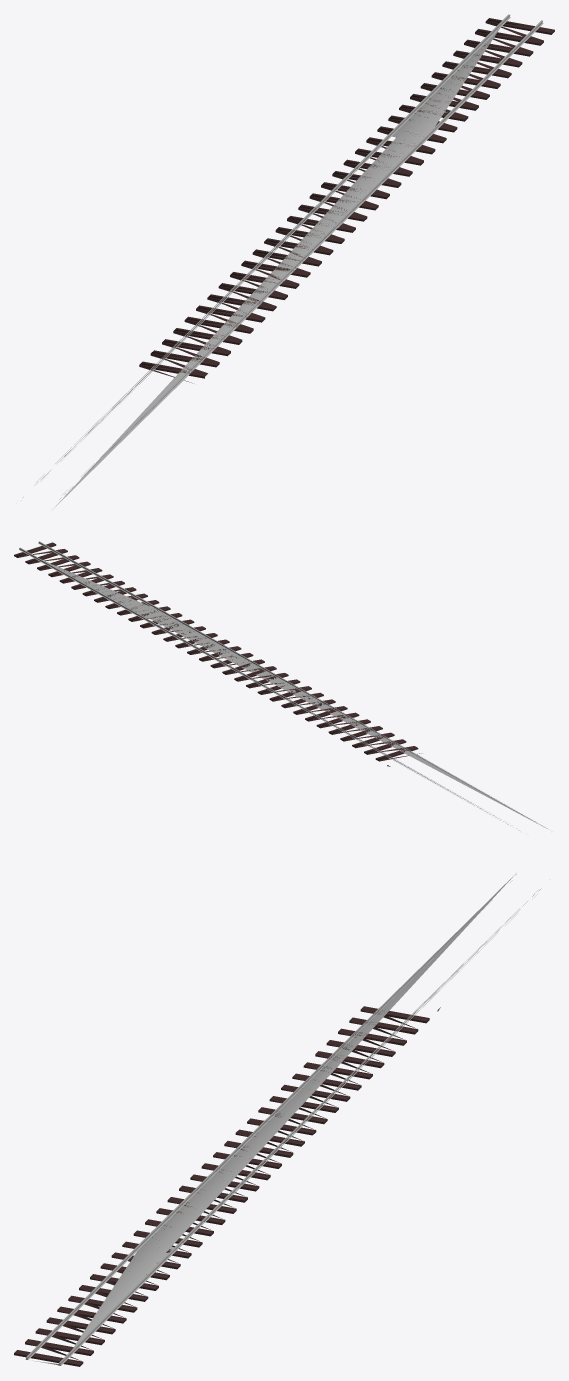
The picture shows the model from 3 angles, top to bottom: view 1: azimuth 90°, elevation 25°; view 2: azimuth 150°, elevation 25°; view 3: azimuth 270°, elevation 25°; orthographic projection. The views are drawn at different scales.
Size of the model in its own units: 35.02 by 0.1478 by 16.15.
